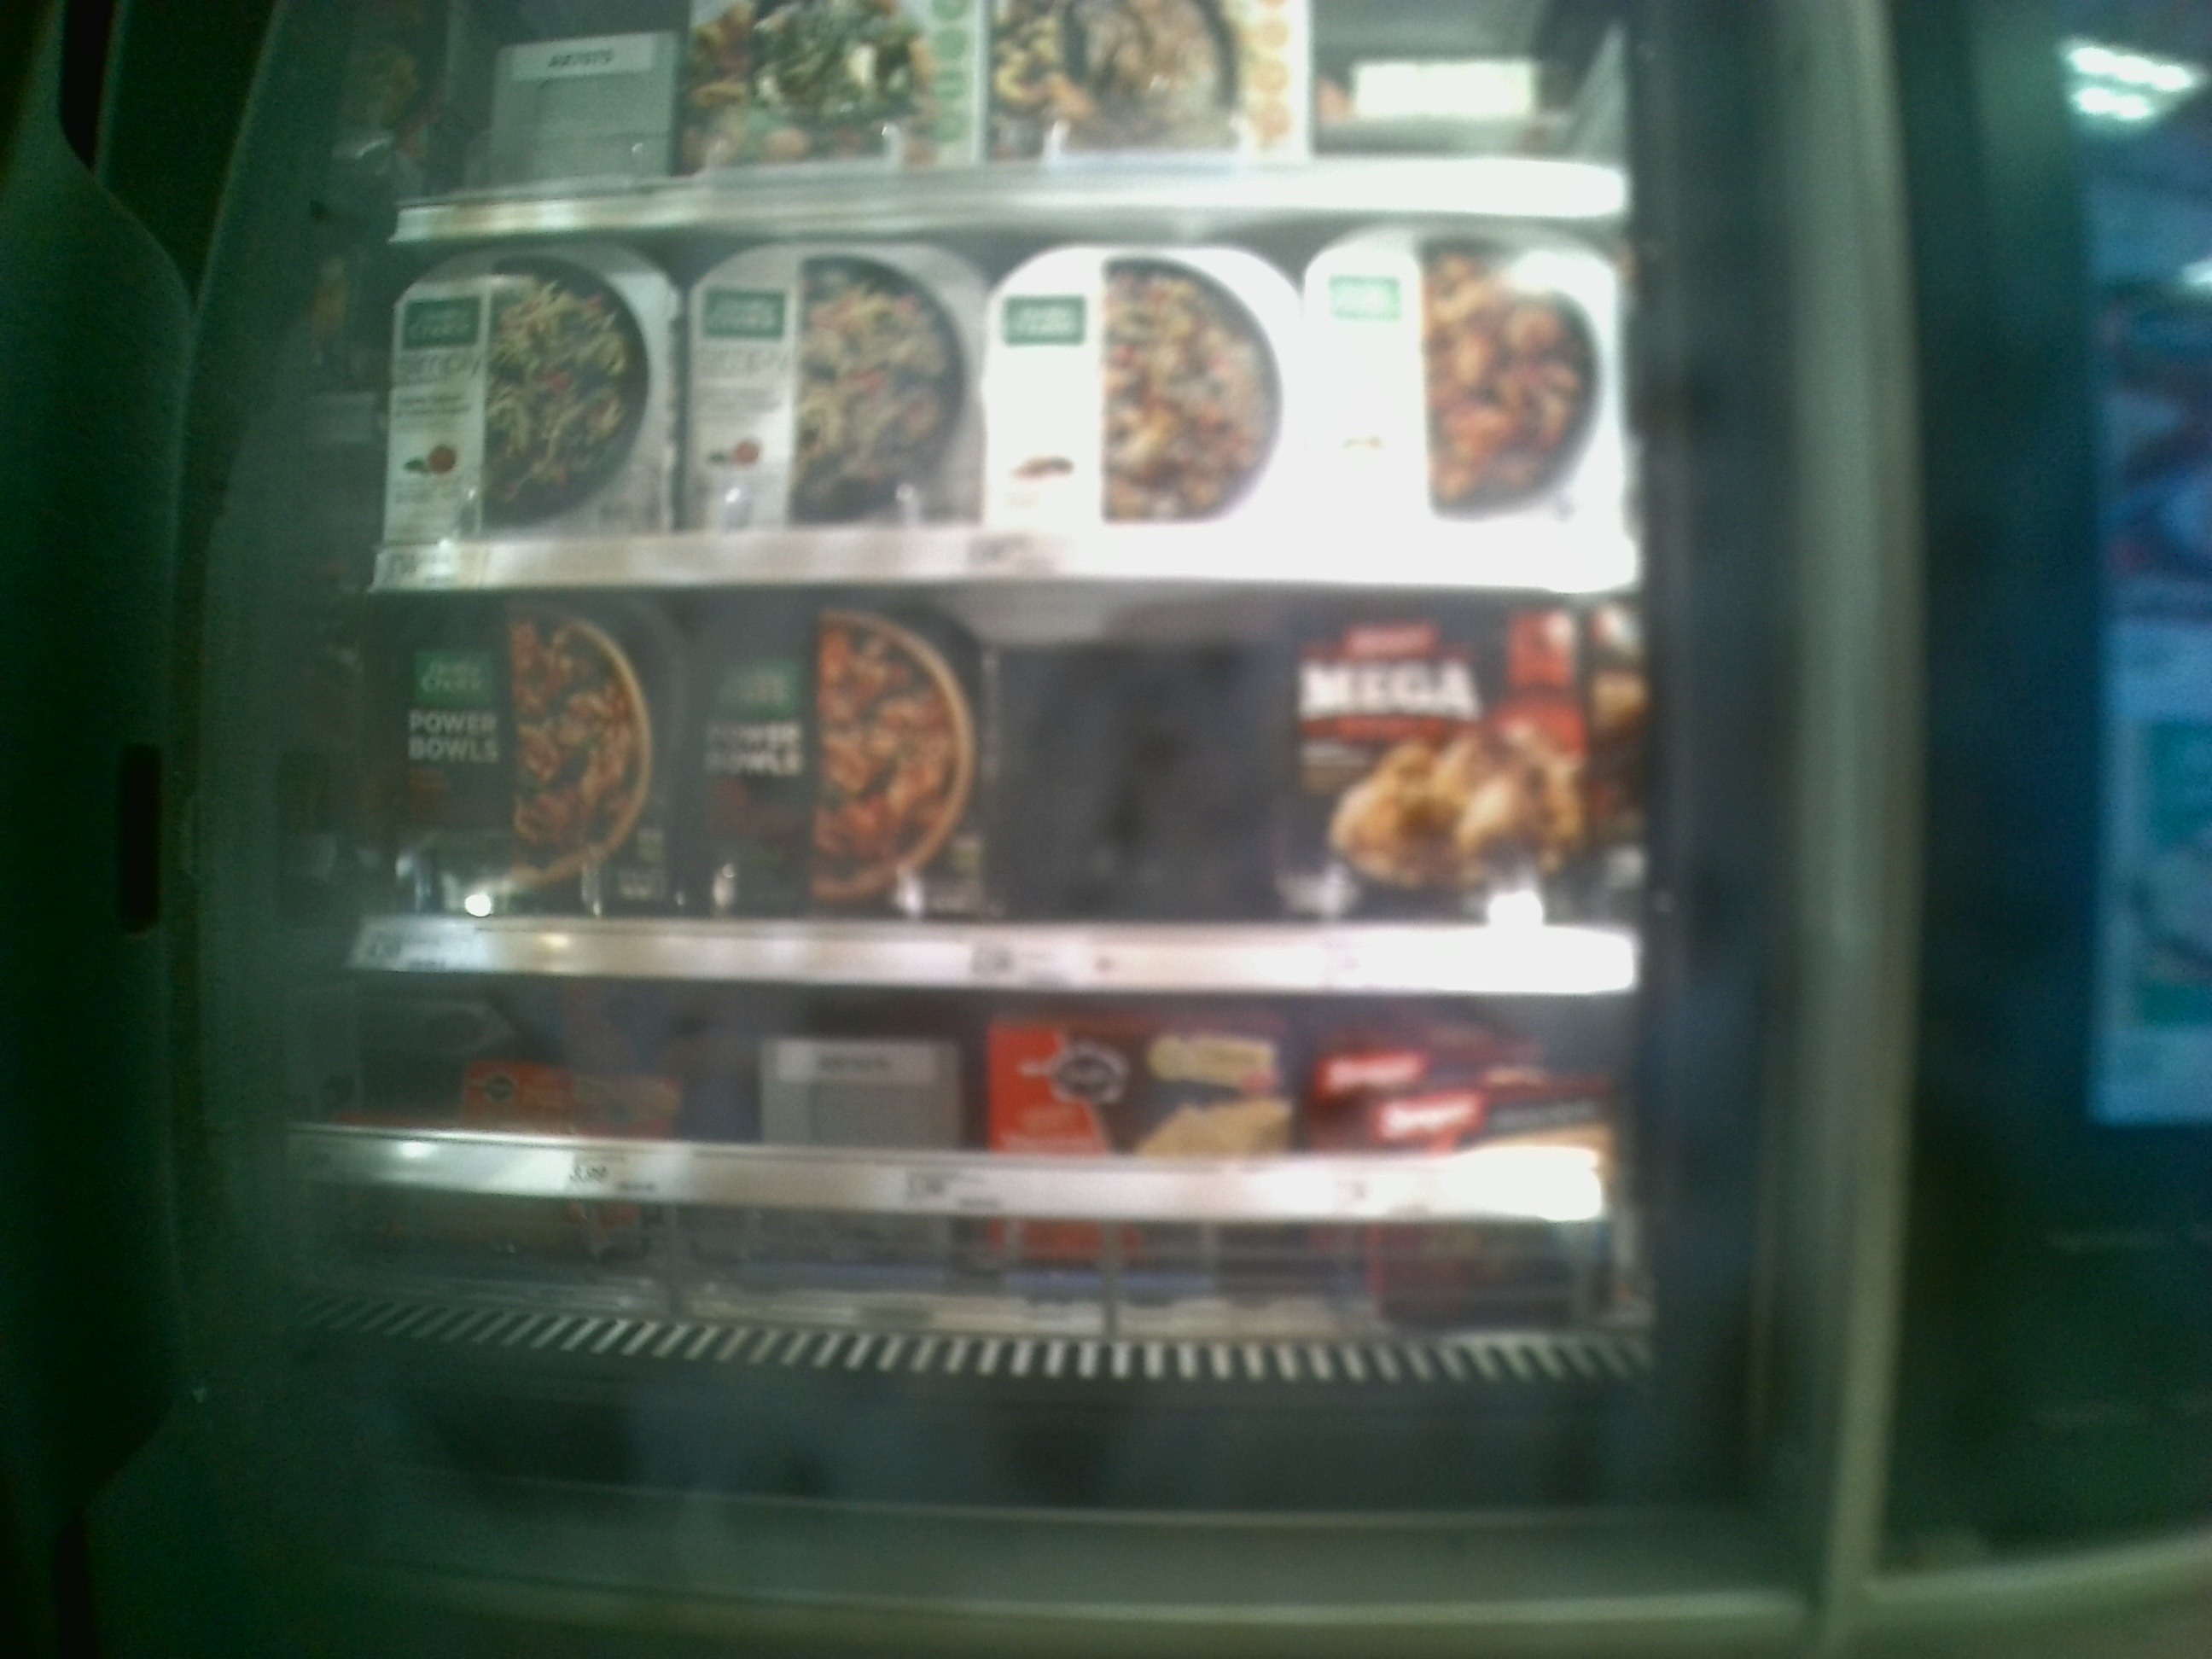shelf: (310, 978, 1663, 1394), (348, 592, 1656, 1000), (376, 199, 1646, 591)
